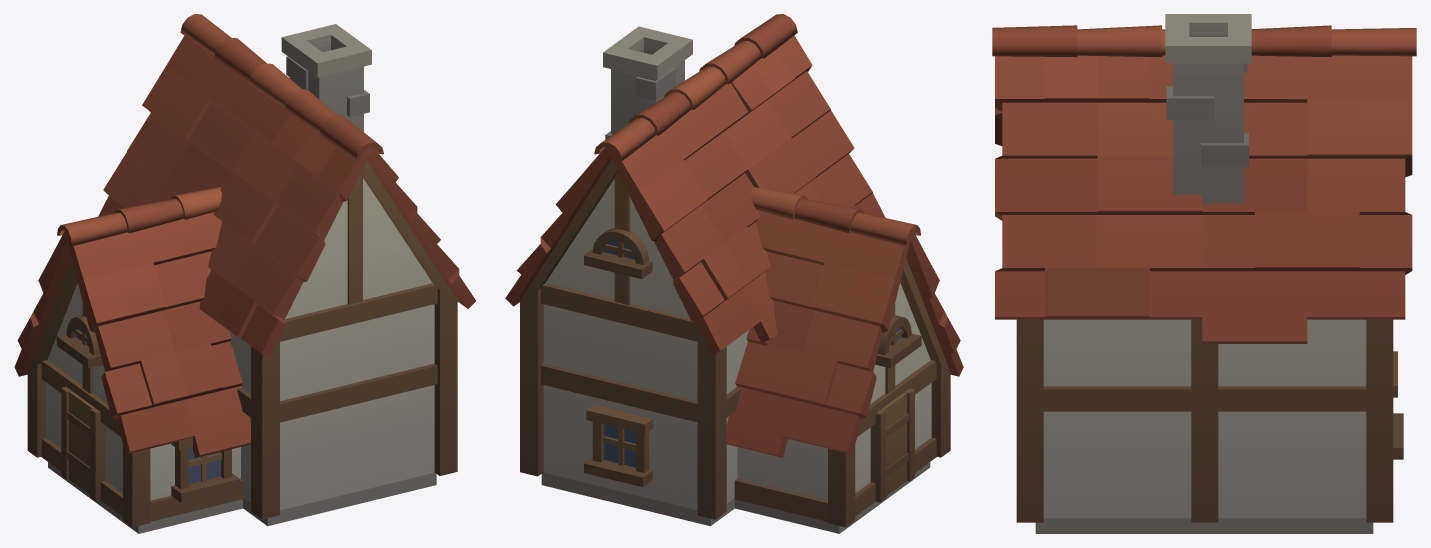
Rendered from house3.fbx.
3 renders of one model, left to right at view 1: azimuth 30°, elevation 25°; view 2: azimuth 150°, elevation 25°; view 3: azimuth 270°, elevation 25°, orthographic. The views are drawn at different scales.
Parts seen in each view (by area): view 1: house3; view 2: house3; view 3: house3.
Boxes of the visible parts, <box> form: house3: <box>14,14,475,533</box>; house3: <box>505,14,963,533</box>; house3: <box>992,14,1416,533</box>.
Size of the model in its own units: 343 by 391 by 312.
